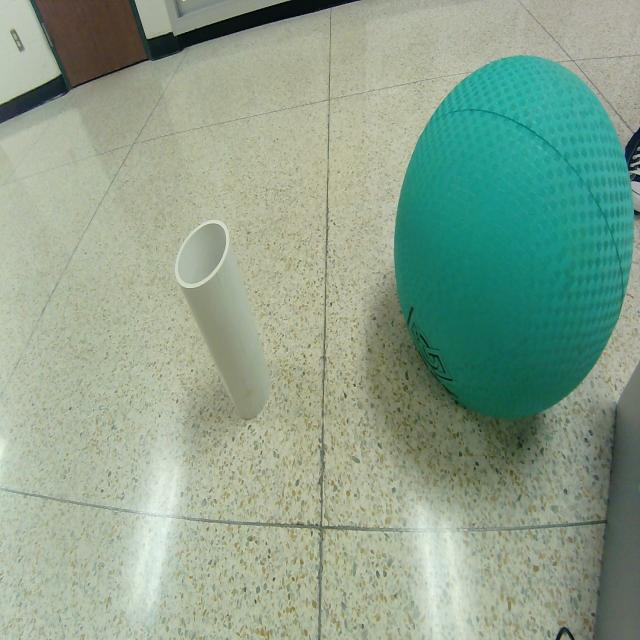algae: (394, 56, 634, 418)
coral: (175, 220, 270, 420)
